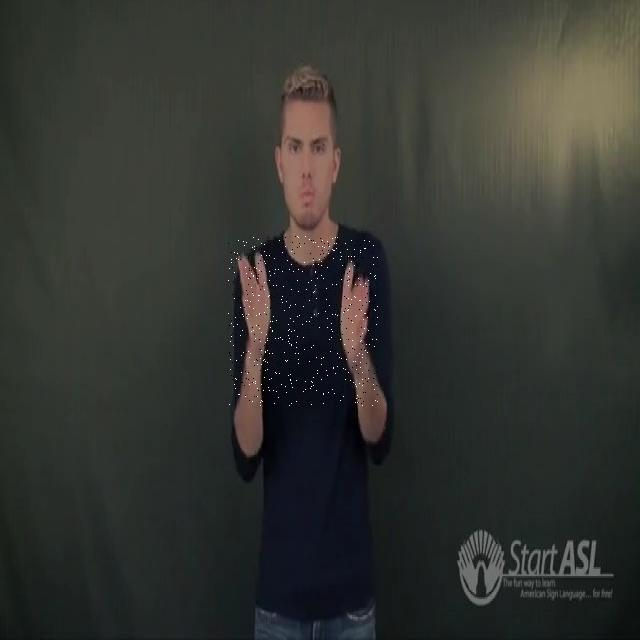small: (228, 236, 378, 406)
